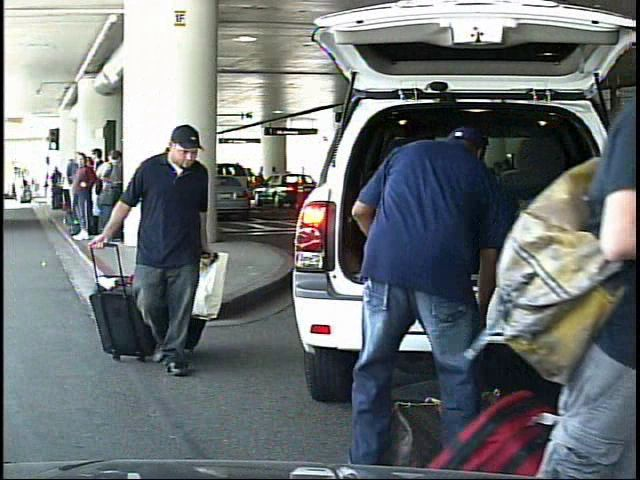person: (314, 109, 500, 476), (91, 119, 230, 388), (14, 172, 25, 203)
